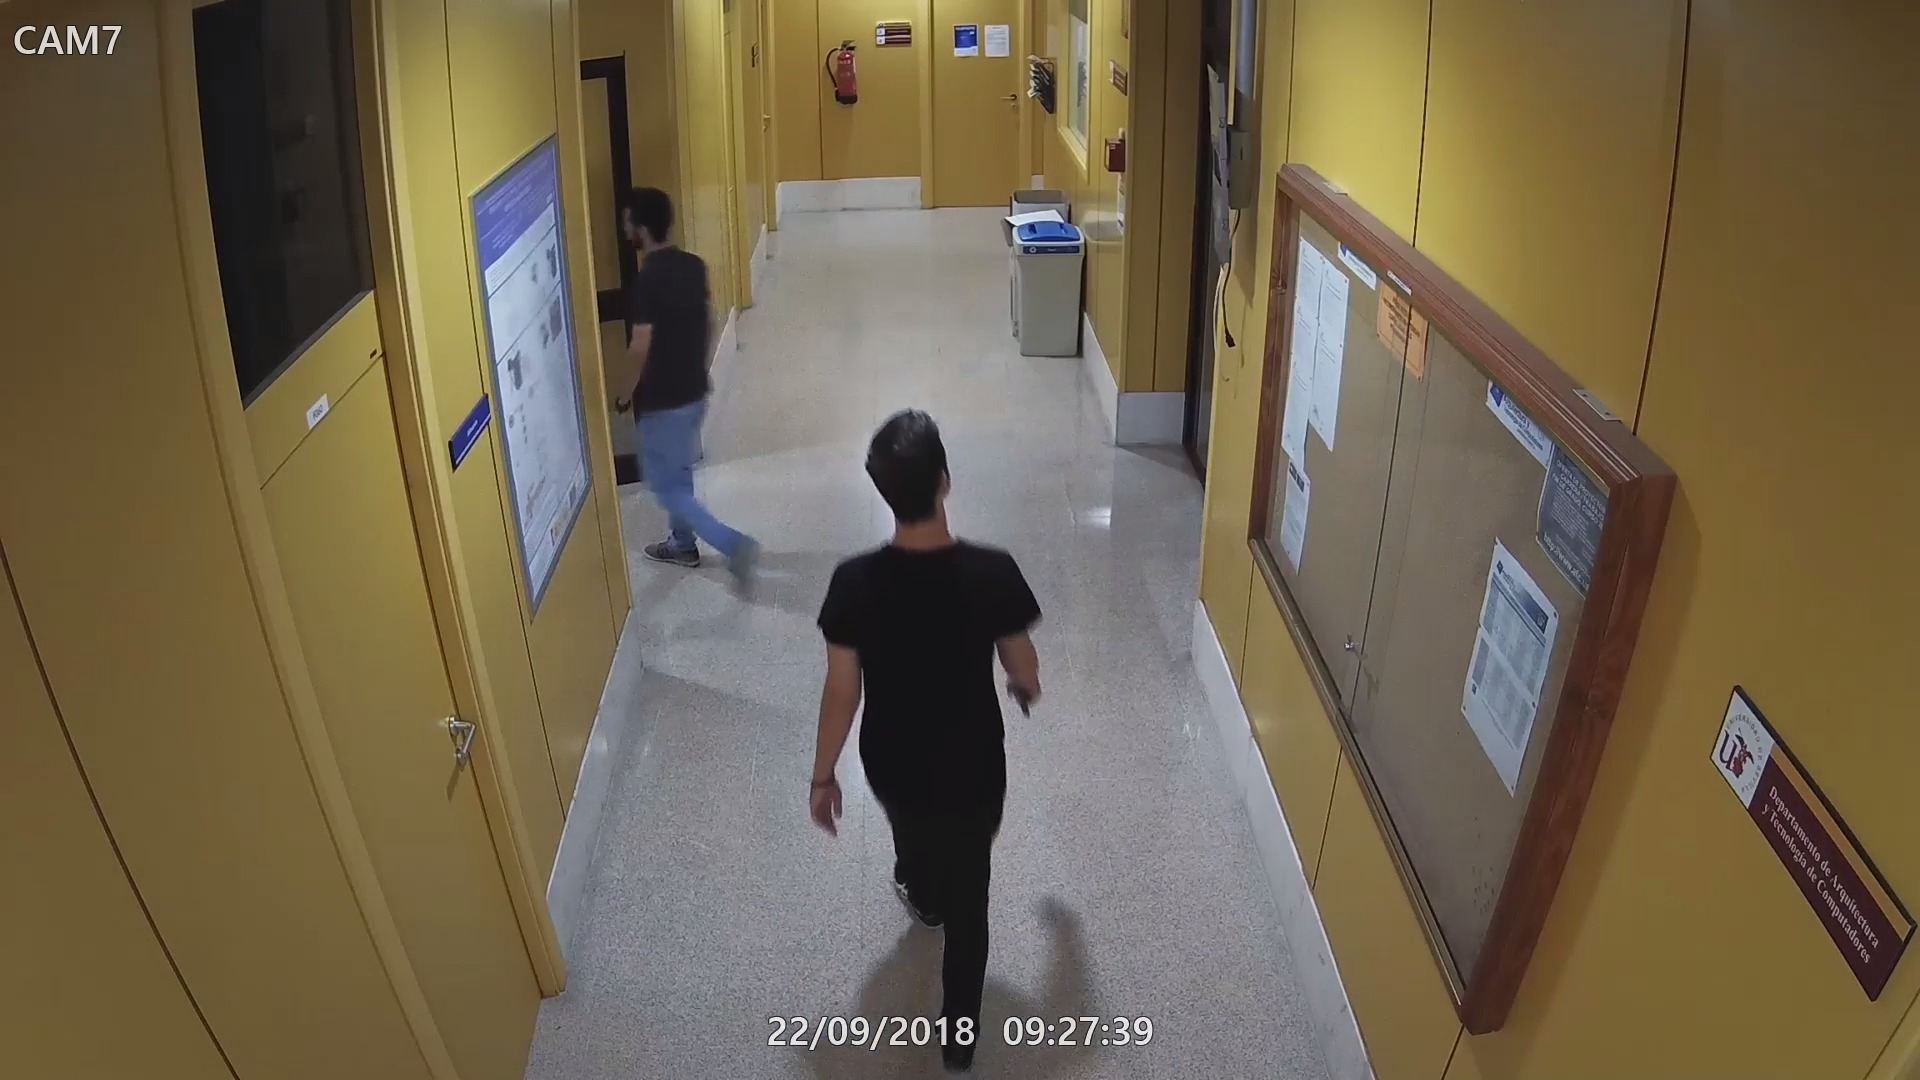Handgun: (1004, 679, 1038, 717)
